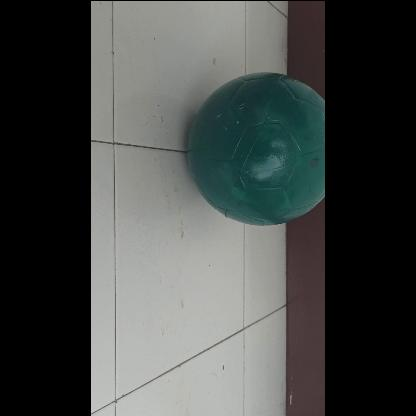green_ball: (186, 73, 326, 225)
